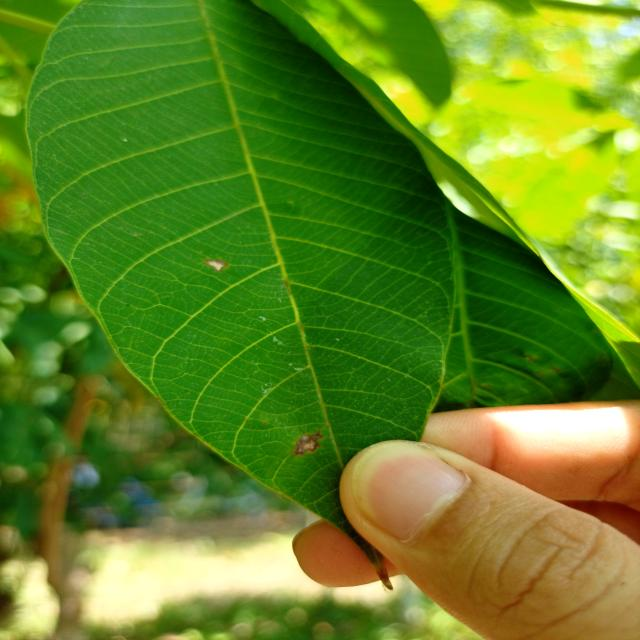Leaf-Blight: (208, 261, 225, 270)
